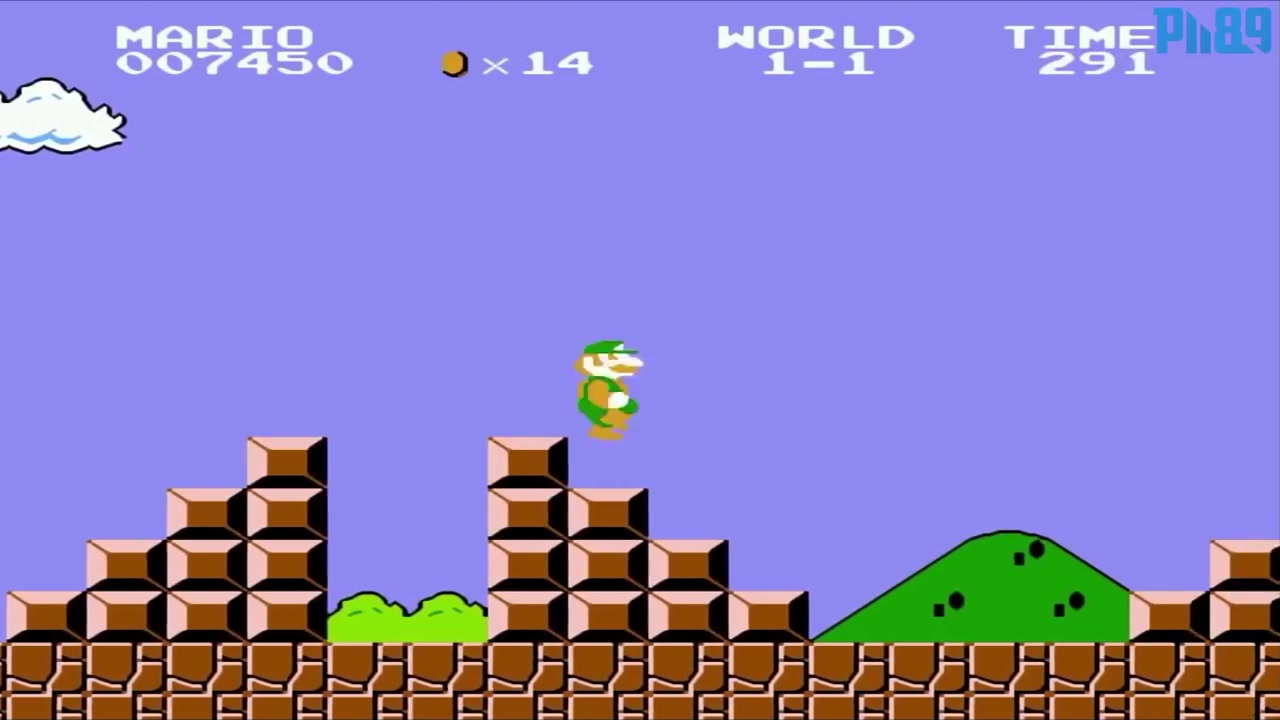mario: (564, 329, 648, 447)
